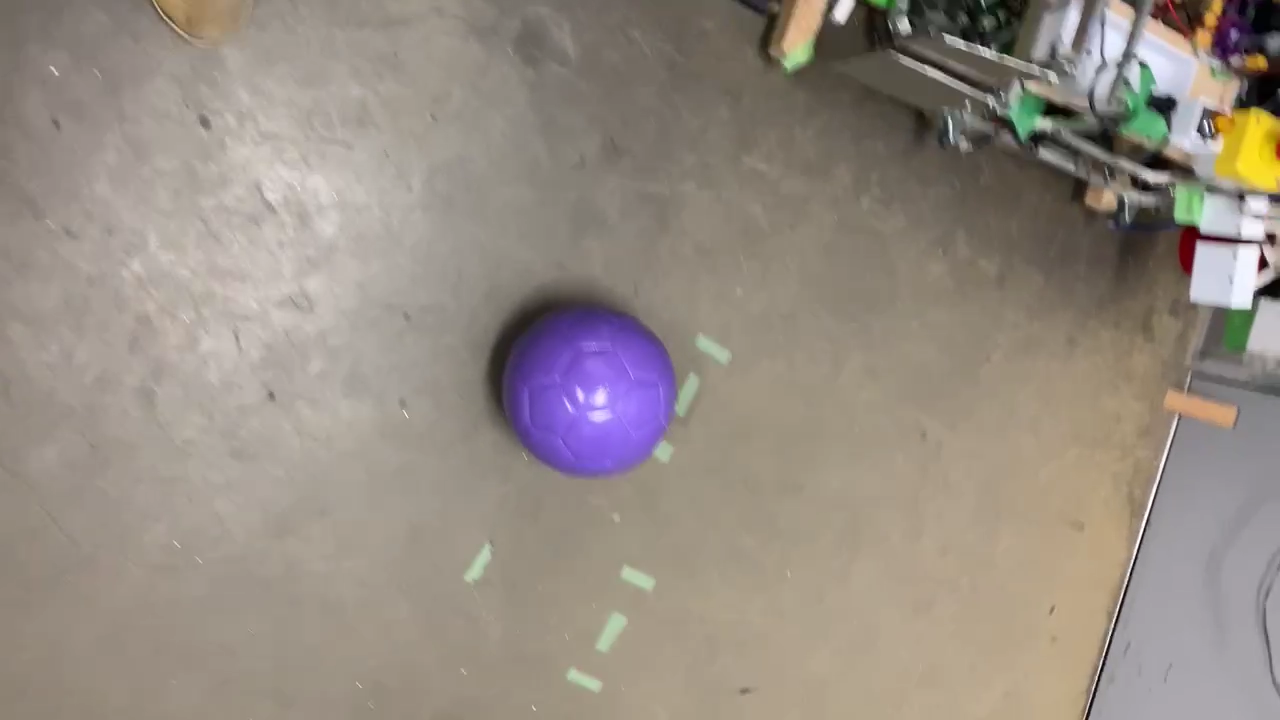purple: (504, 309, 676, 476)
